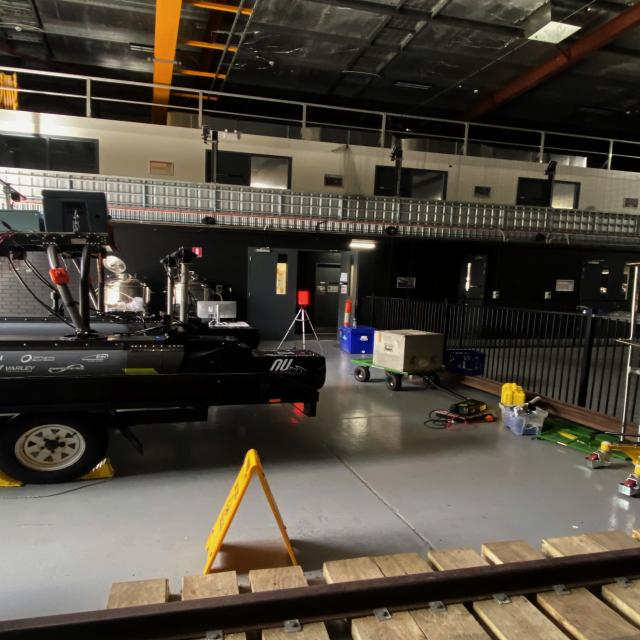matrix: (292, 288, 313, 310)
